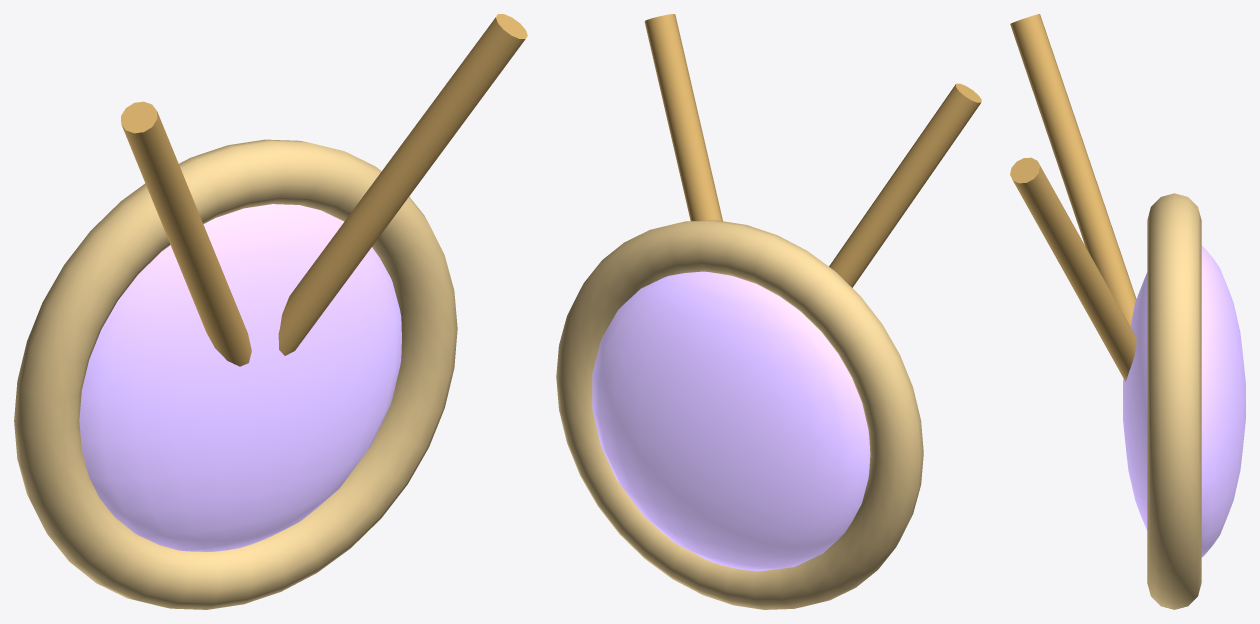
Rendered from amulet.glb.
The picture shows the model from 3 angles, left to right: view 1: azimuth 30°, elevation 25°; view 2: azimuth 150°, elevation 25°; view 3: azimuth 270°, elevation 25°; orthographic projection. The views are drawn at different scales.
Parts seen in each view (by area): view 1: EnamelGem, GoldBezel, _MeshInstance3D_16, Chain; view 2: EnamelGem, GoldBezel, Chain, _MeshInstance3D_16; view 3: GoldBezel, EnamelGem, Chain, _MeshInstance3D_16.
Boxes of the visible parts, box(x1,y1,x2,y2) form: EnamelGem: box(79, 204, 401, 551); GoldBezel: box(14, 139, 457, 609); _MeshInstance3D_16: box(278, 14, 527, 355); Chain: box(121, 101, 251, 366); EnamelGem: box(592, 271, 870, 571); GoldBezel: box(556, 220, 923, 609); Chain: box(829, 83, 981, 287); _MeshInstance3D_16: box(644, 14, 722, 221); GoldBezel: box(1147, 193, 1201, 609); EnamelGem: box(1123, 246, 1245, 557); Chain: box(1010, 14, 1136, 326); _MeshInstance3D_16: box(1010, 157, 1136, 381).
Size of the model in its own units: 0.042 by 0.0559 by 0.0237.
